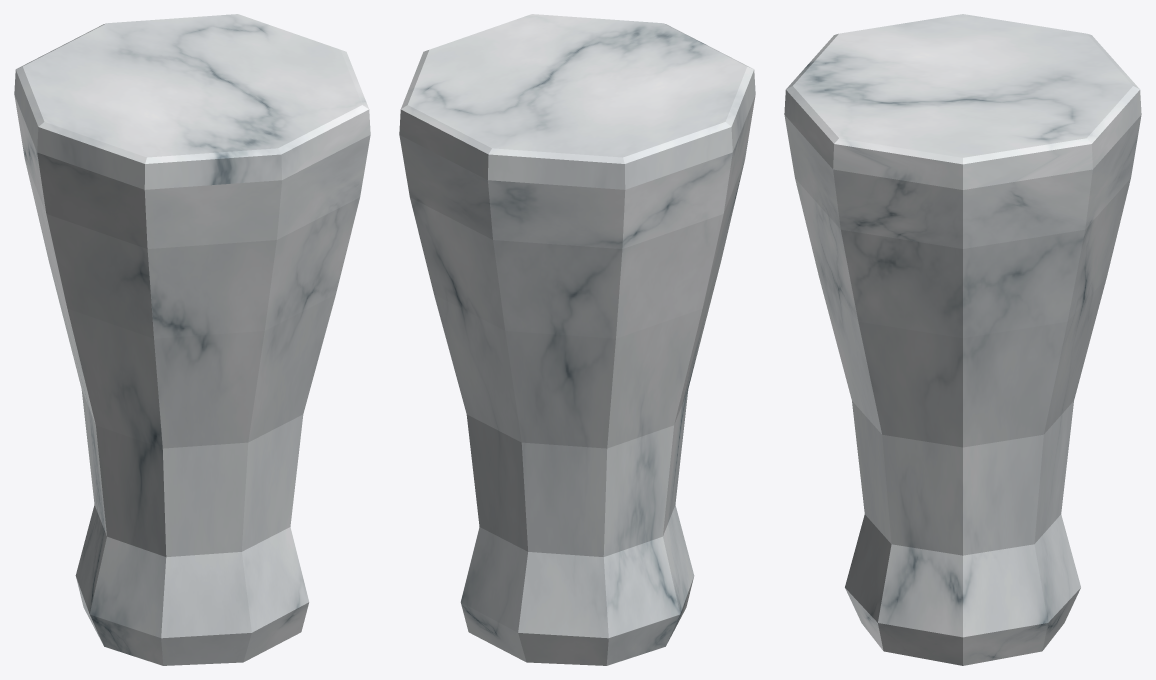
The model's file is Display Pedistal (High Poly).gltf.
3 views of the same model, side by side, from view 1: azimuth 30°, elevation 25°; view 2: azimuth 150°, elevation 25°; view 3: azimuth 270°, elevation 25° (orthographic).
Visible parts, largest first — view 1: Cube; view 2: Cube; view 3: Cube.
Boxes of the visible parts, left/top/right/bottom form: Cube: left=14, top=14, right=370, bottom=665; Cube: left=399, top=14, right=755, bottom=665; Cube: left=784, top=14, right=1141, bottom=665.
Bounding box in the file's own units: 1.75 × 2.96 × 1.75.
1 material, 1 textured.
